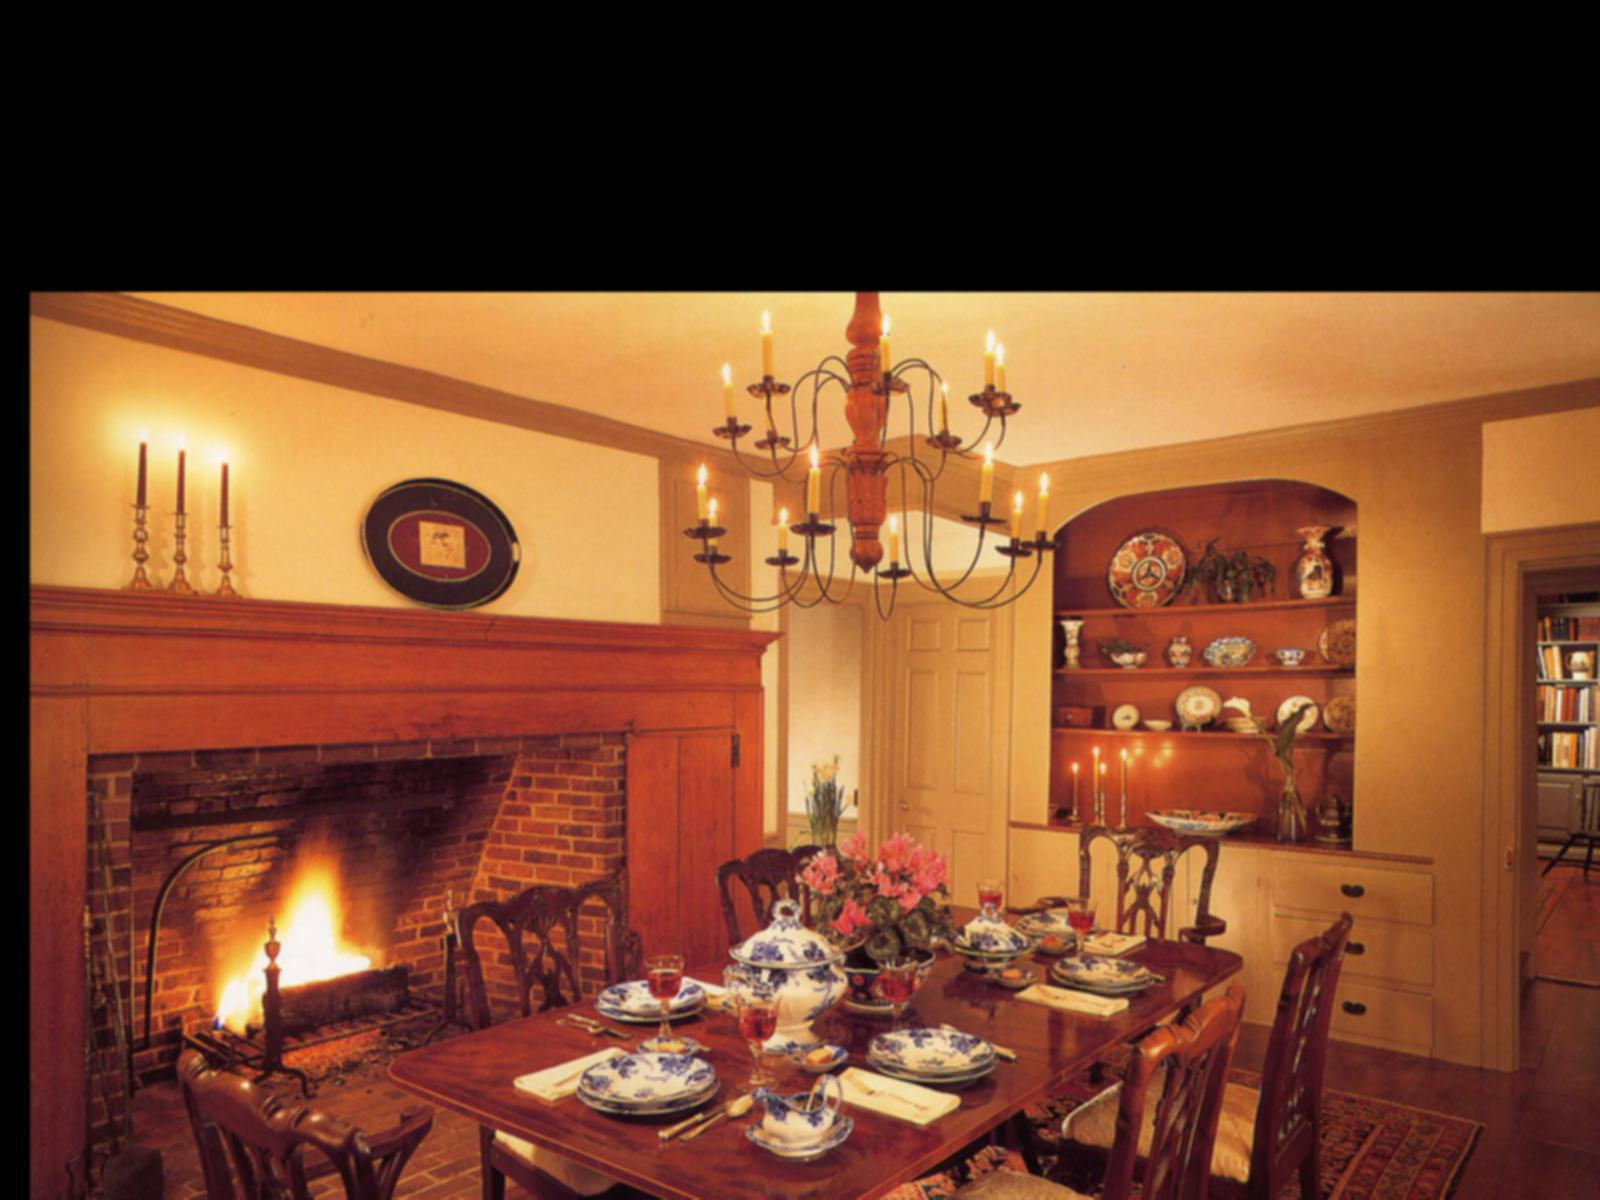Puerta: (877, 595, 1004, 887)
